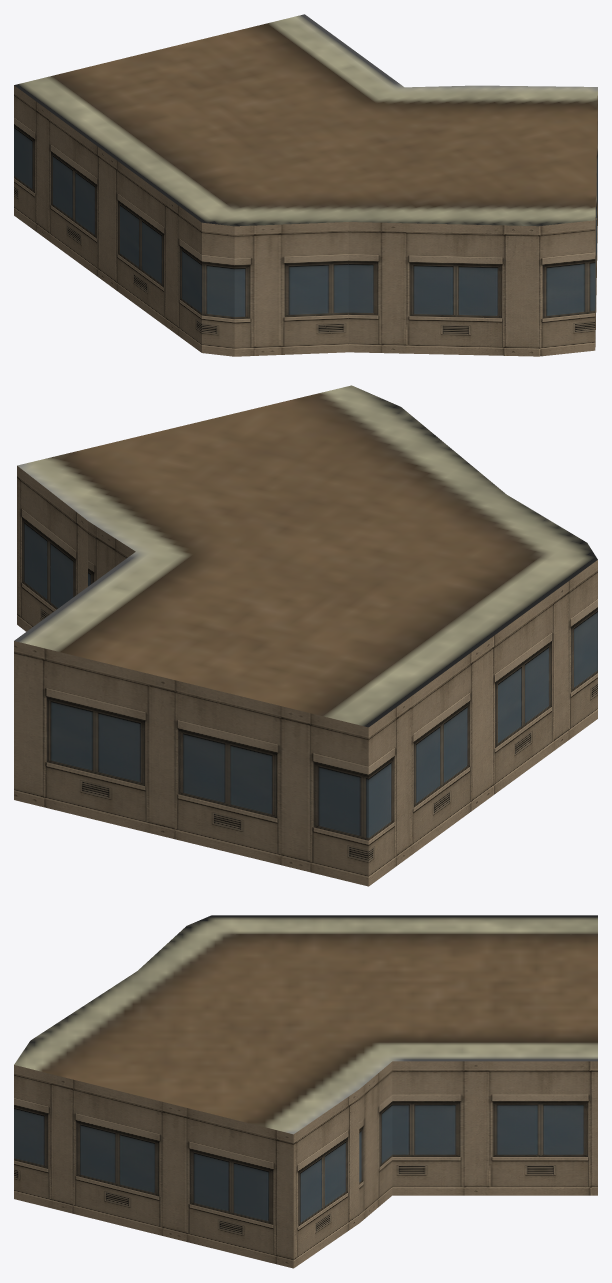
File: light_roof05.glb
The picture shows the model from 3 angles, top to bottom: view 1: azimuth 30°, elevation 25°; view 2: azimuth 150°, elevation 25°; view 3: azimuth 270°, elevation 25°; orthographic projection. The views are drawn at different scales.
Parts seen in each view (by area): view 1: buildings/saxarba/light/light_roof05; view 2: buildings/saxarba/light/light_roof05; view 3: buildings/saxarba/light/light_roof05.
Boxes of the visible parts, x1,y1,x2,y2 form: buildings/saxarba/light/light_roof05: (14, 14, 597, 356); buildings/saxarba/light/light_roof05: (14, 385, 597, 886); buildings/saxarba/light/light_roof05: (14, 915, 597, 1268).
Bounding box in the file's own units: 63 × 18 × 71.
